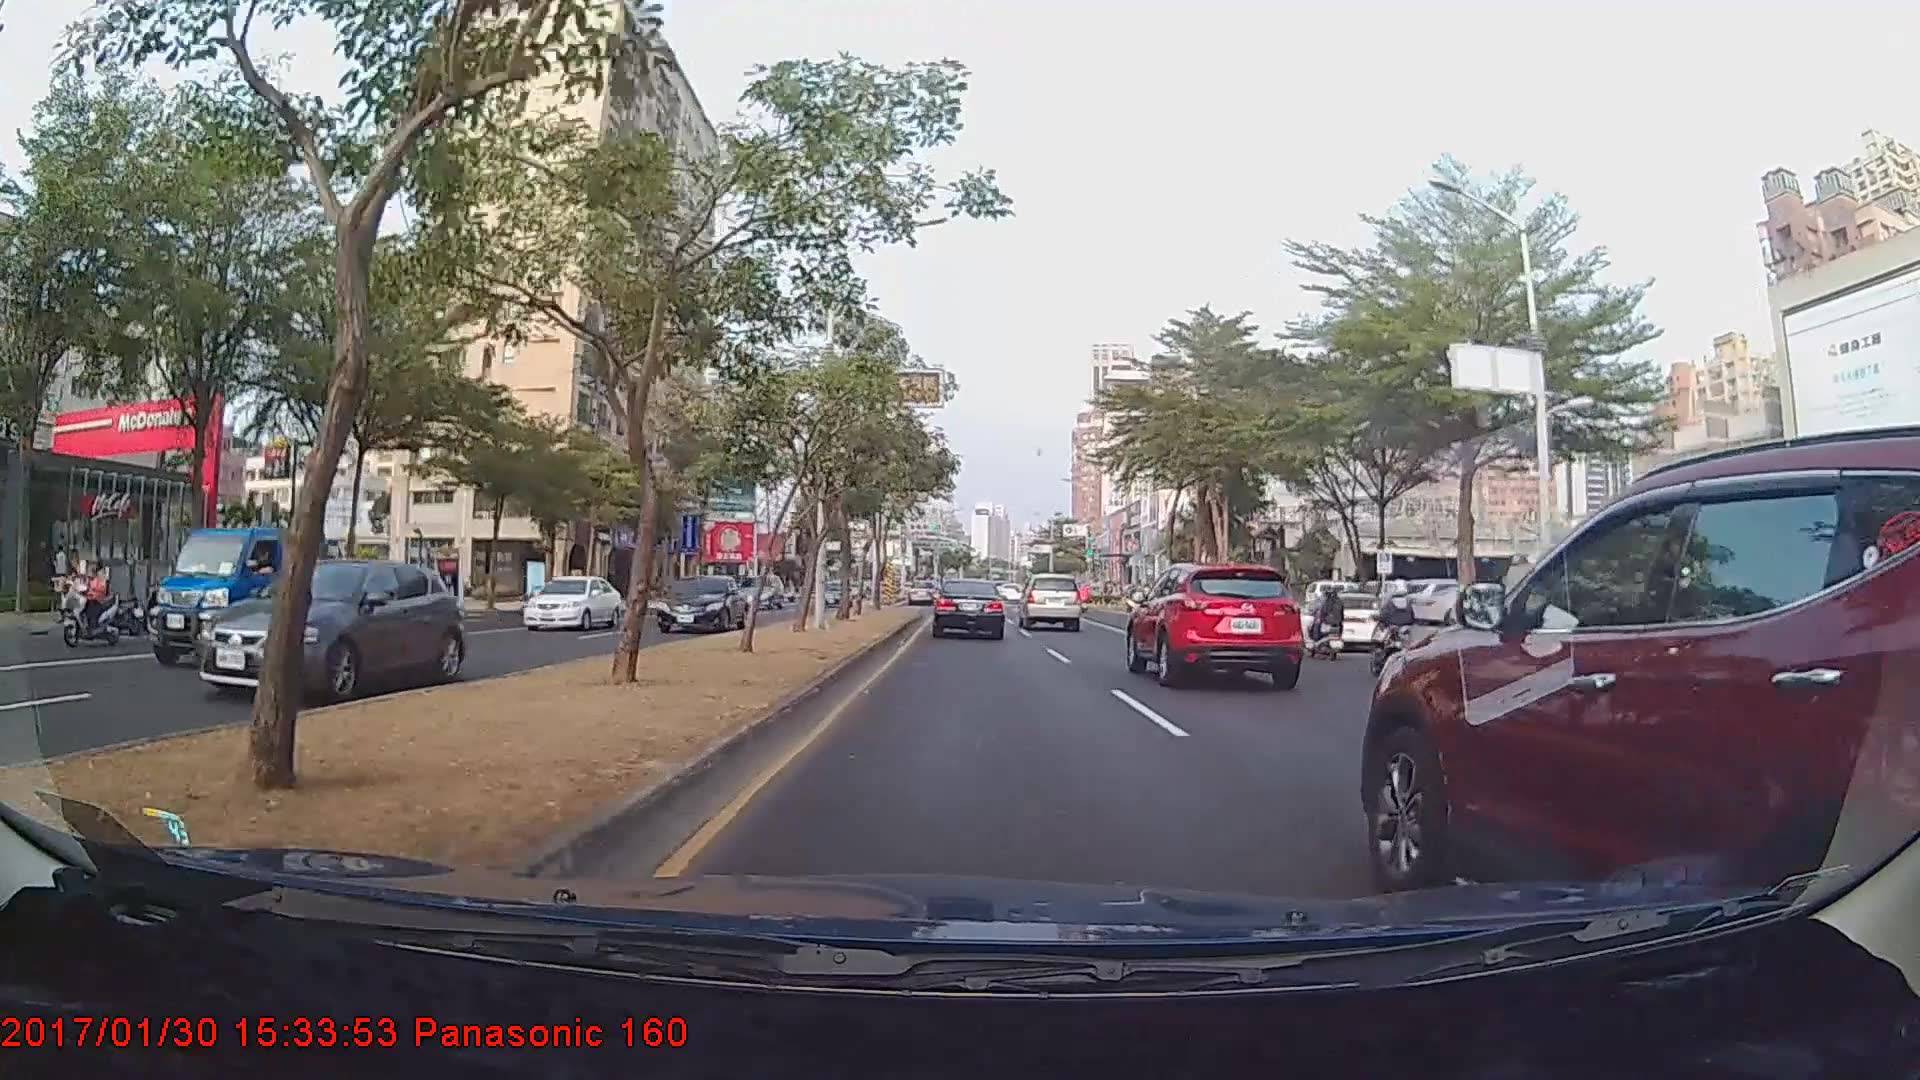rider: (1362, 575, 1426, 672), (59, 553, 125, 646), (1300, 580, 1352, 666)
vehicle: (1359, 435, 1919, 972), (196, 558, 468, 706), (144, 528, 359, 665), (1128, 557, 1305, 687), (1292, 593, 1393, 652), (520, 573, 620, 629), (653, 576, 748, 634), (930, 577, 1006, 641), (1017, 572, 1083, 631), (907, 577, 938, 606)
